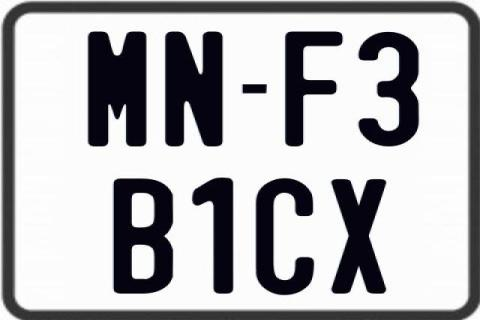0: (359, 32, 423, 151), (190, 176, 234, 293)
B: (114, 179, 178, 295)
C: (253, 176, 314, 298)
F: (284, 30, 344, 150)
M: (88, 31, 152, 147)
N: (163, 30, 227, 148)
X: (330, 178, 388, 298)
